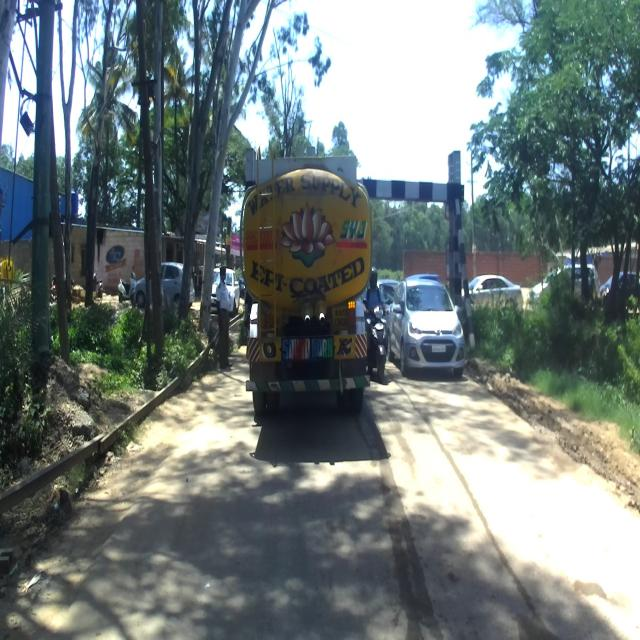Car_Hyundai: (387, 279, 466, 381)
Car_Maruti-Suzuki: (132, 260, 195, 310)
scooter: (361, 297, 391, 387)
truck: (239, 146, 374, 415)
